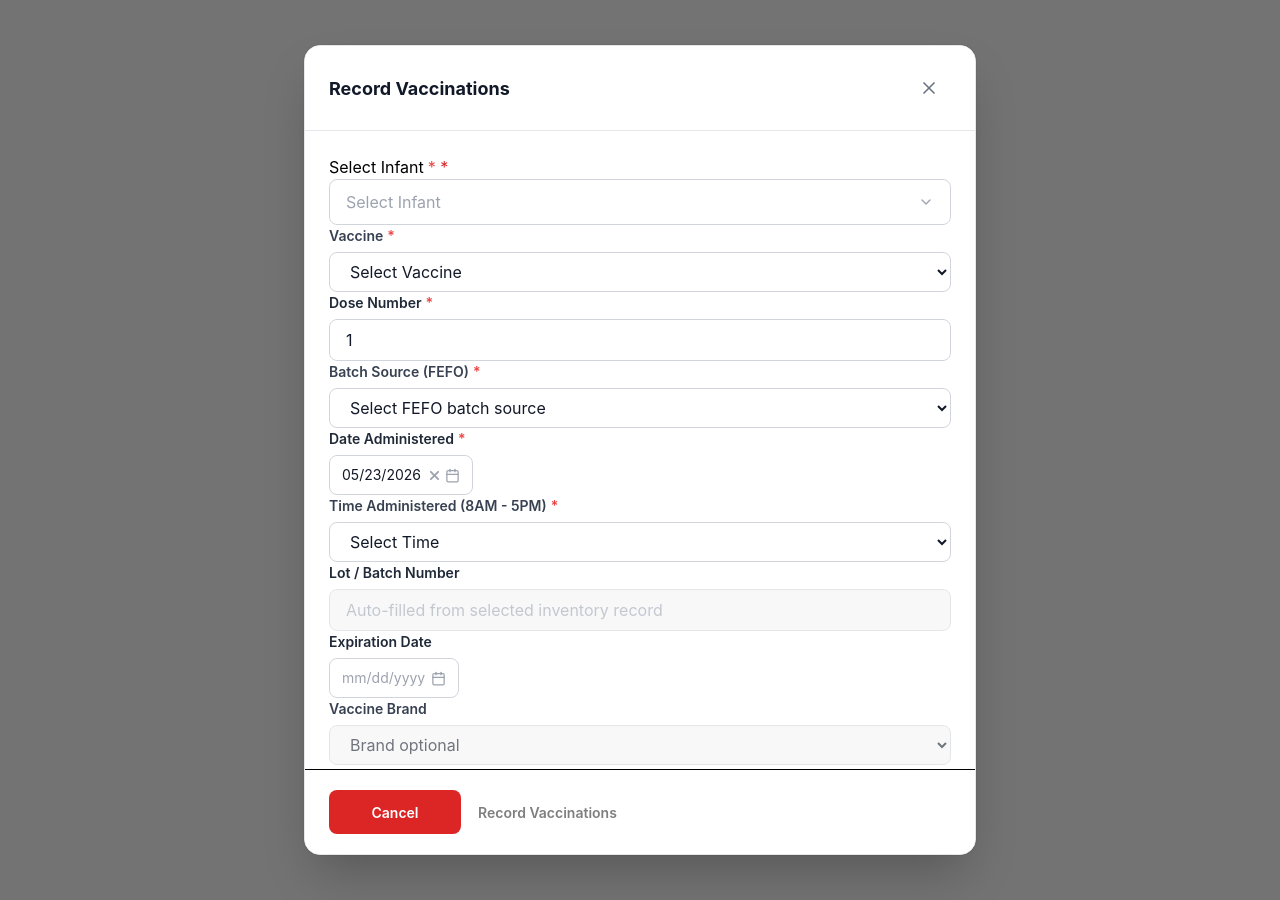
Test: InjectVaccineModal infant dropdown labels › formats infant birth dates in the Select Infant dropdown using Manila local time
This screenshot has width=1280, height=900.
Click the button "Select Infant" at (393, 202), box [329,179,951,225]
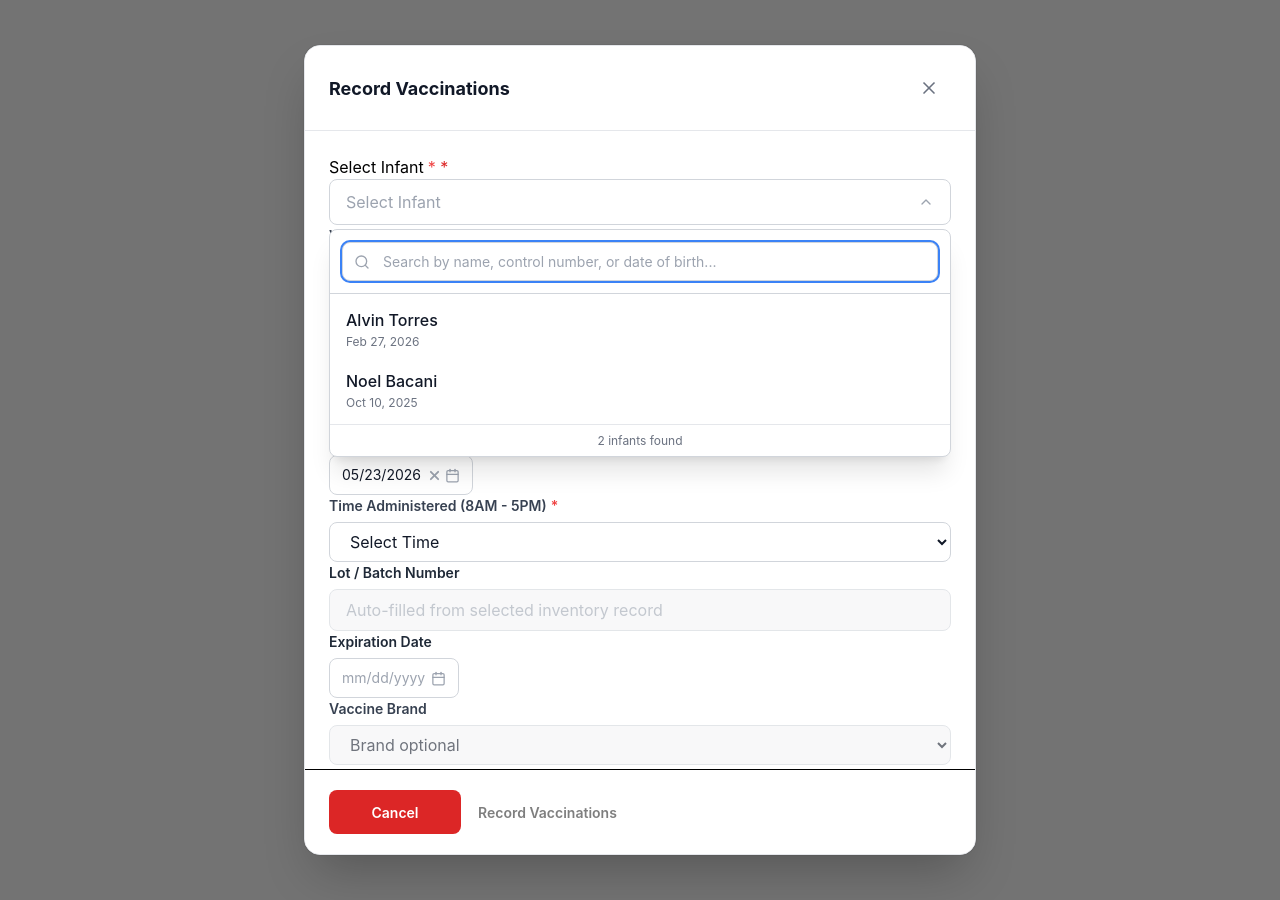
Expected: the button "Alvin Torres Feb 27, 2026" is shown, [330,298,950,359]
Expected: the button "Noel Bacani Oct 10, 2025" is shown, [330,359,950,420]
